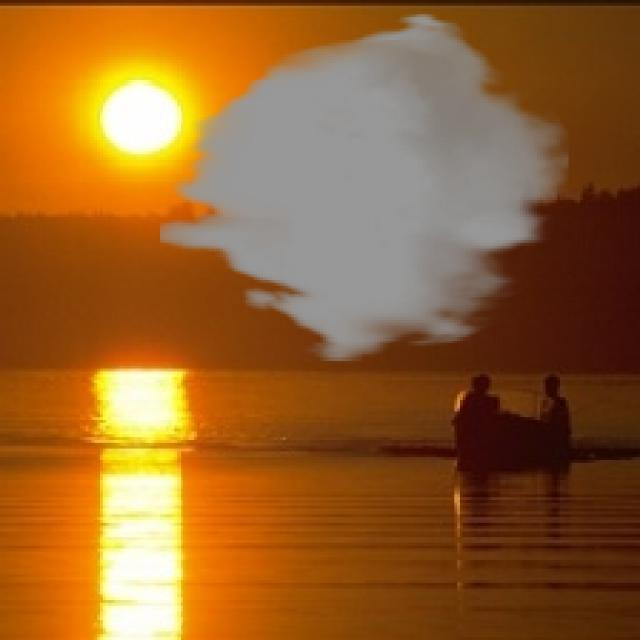Smoke: (160, 11, 569, 363)
